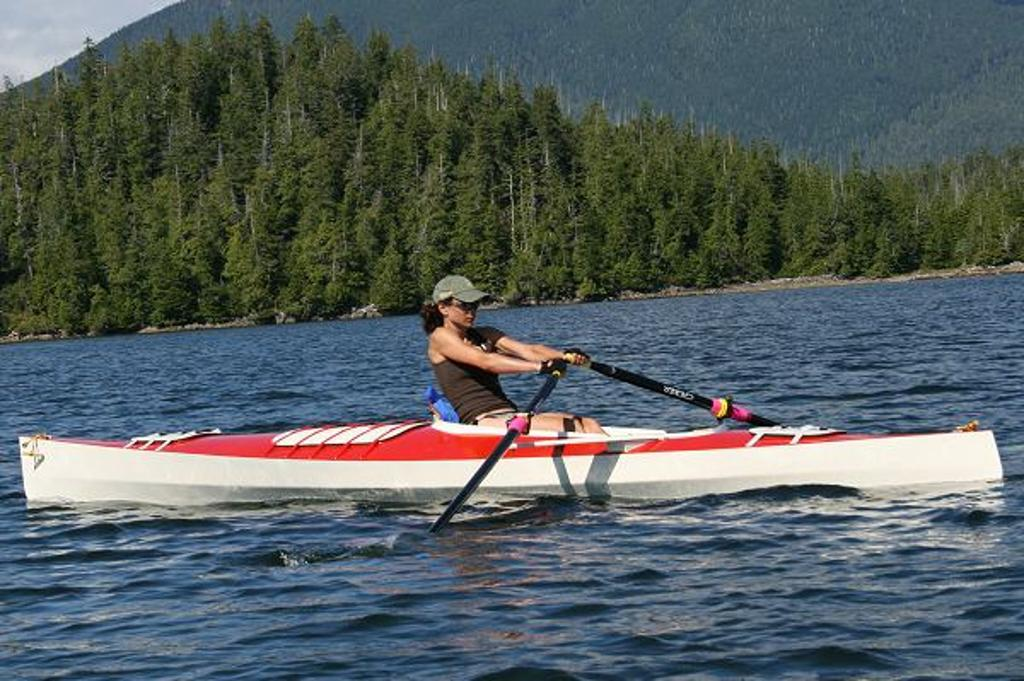face: (448, 291, 476, 328)
